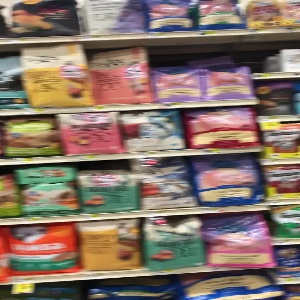void: (245, 35, 280, 76)
